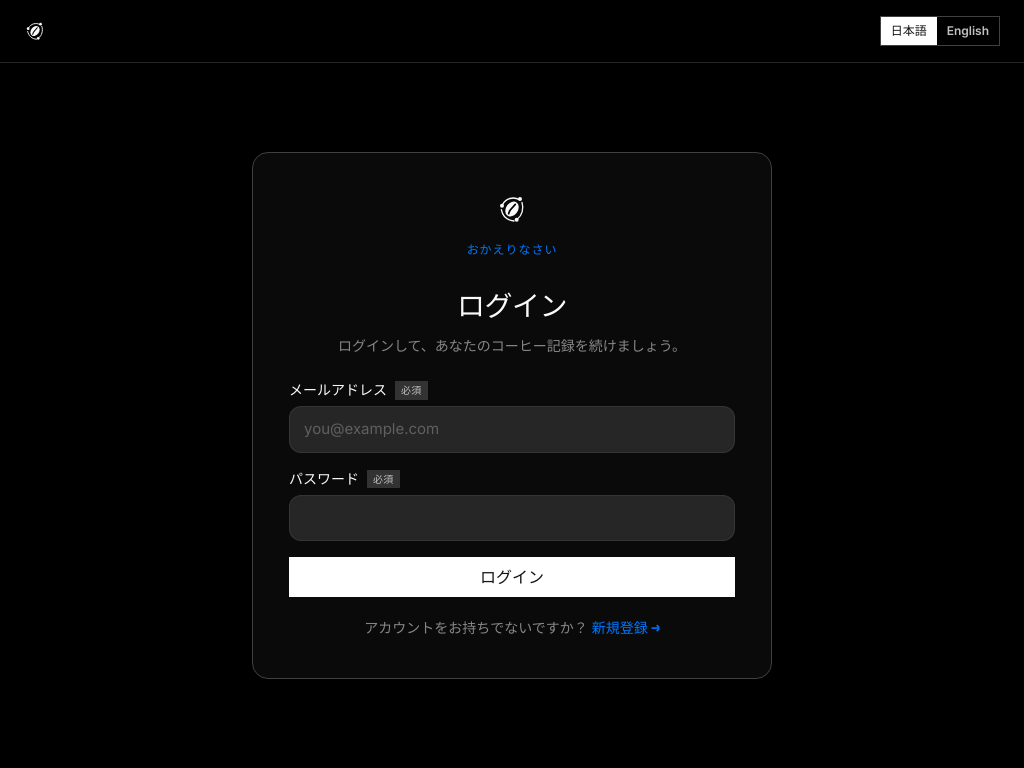
LoginPage（未ログイン） › ログイン失敗（INVALID_CREDENTIALS）時は具体的なエラーメッセージを表示する
The image size is (1024, 768).
In the field labelled "メールアドレス 必須": (512, 430) [289,406,735,453], type "alice@example.com"
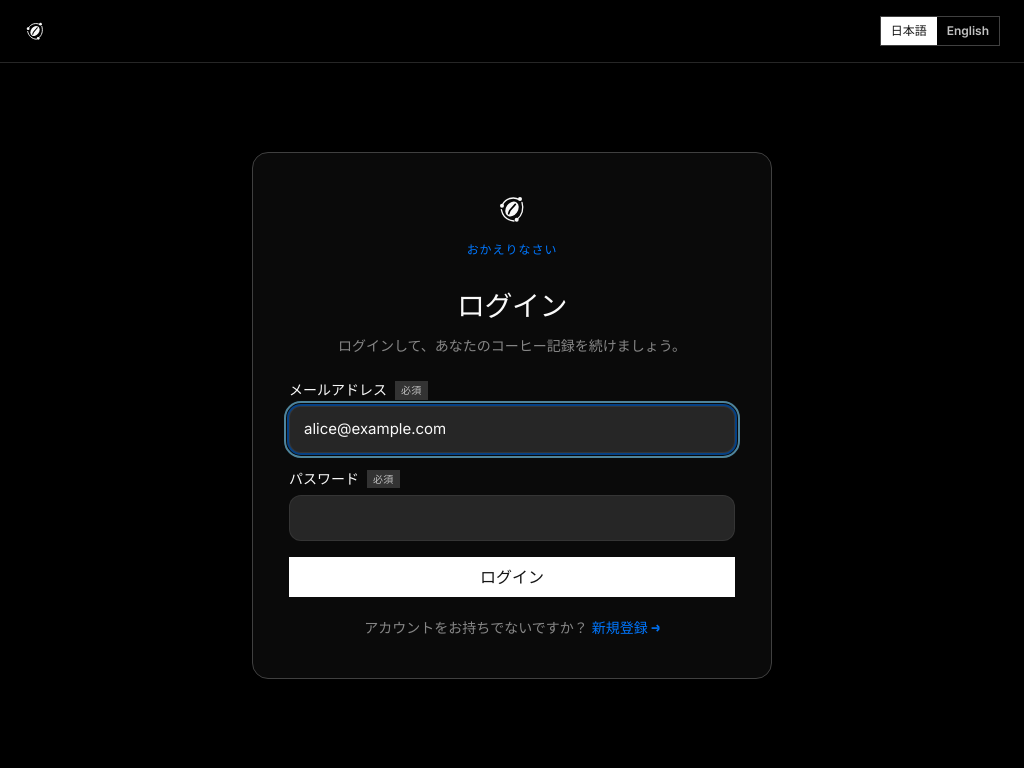
In the password field labelled "パスワード 必須": (512, 518) [289,495,735,541], type "wrong-password"
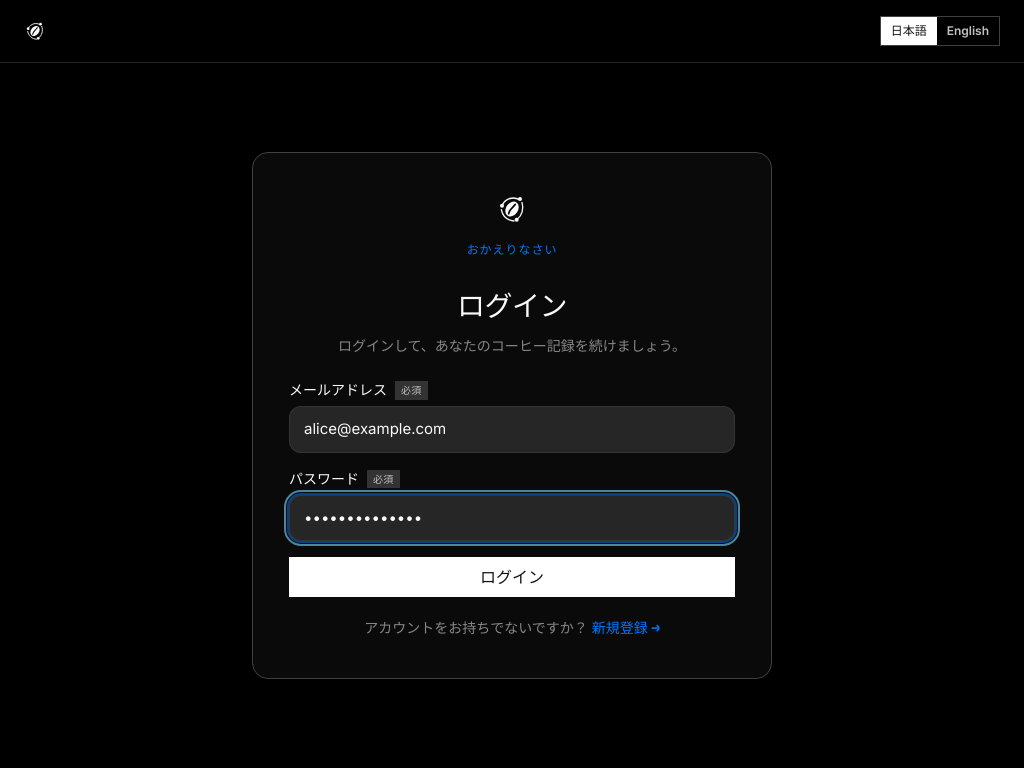
Click the button "ログイン": click(512, 577) [289,557,735,597]
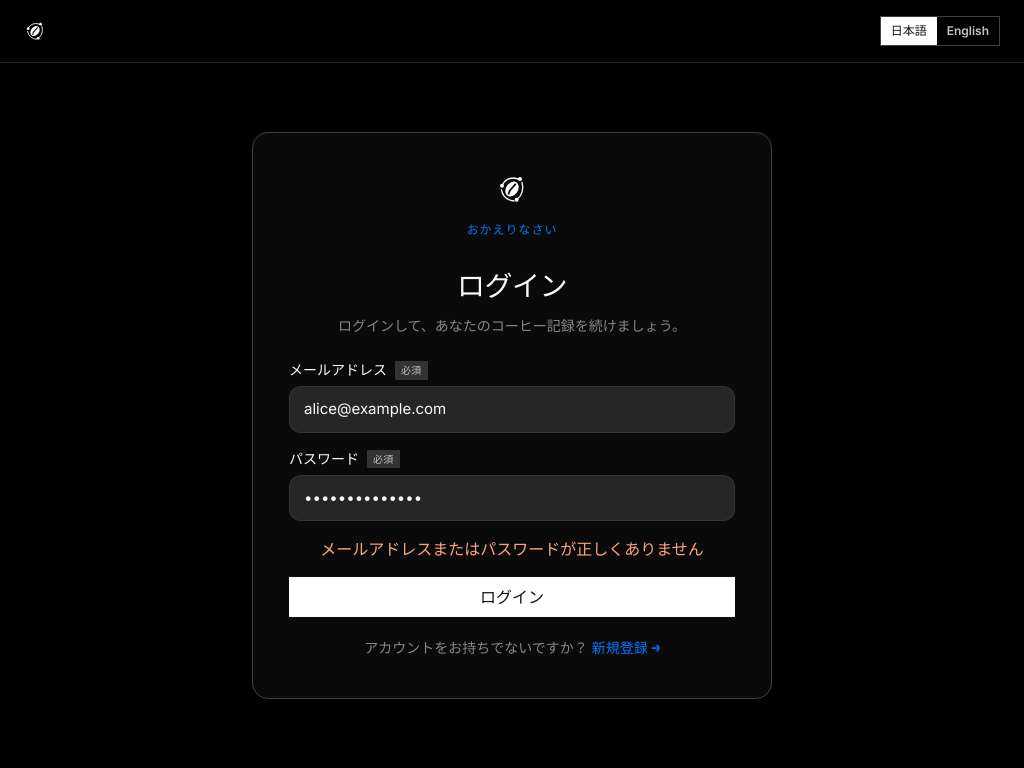
Expected: the text "メールアドレスまたはパスワードが正しくありません" is shown, [289,537,735,561]
